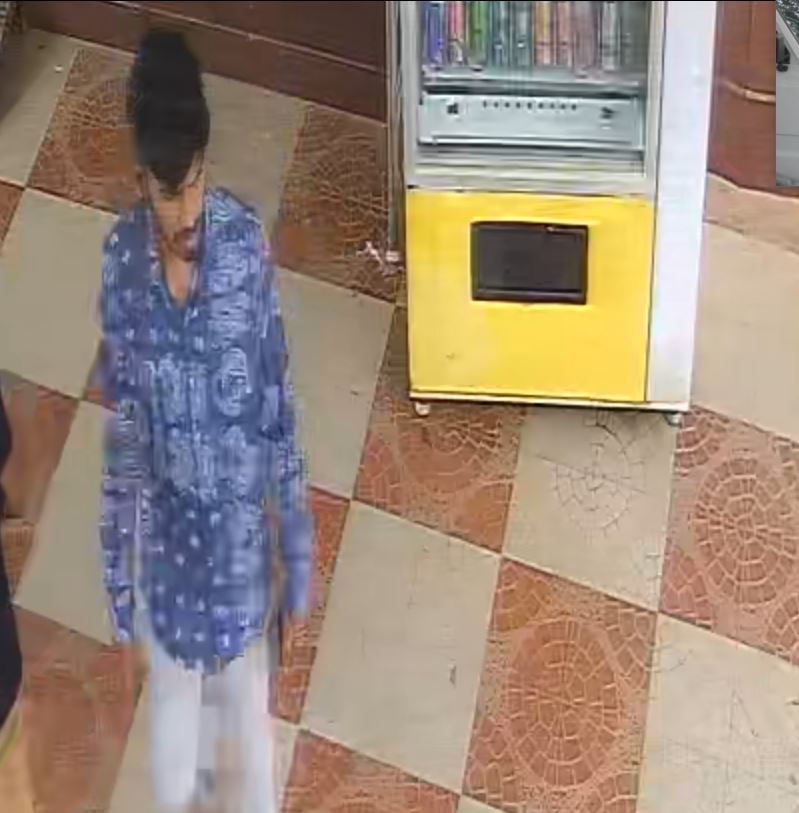intruder: (86, 24, 314, 813)
